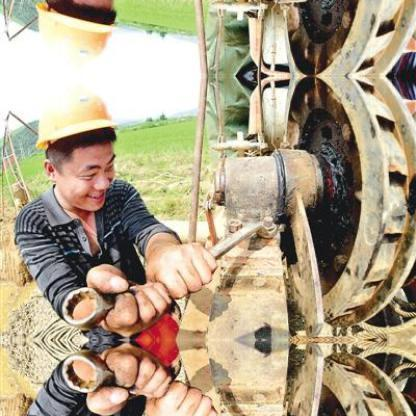helmet: (34, 90, 116, 151)
